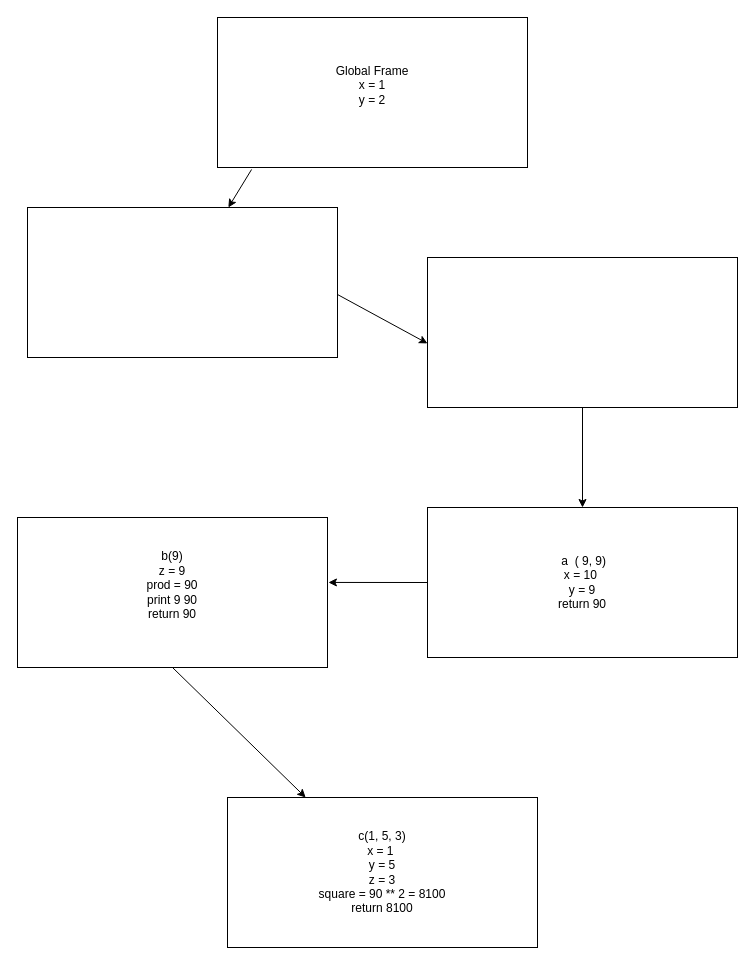
This 755x965 diagram has some shape labels left out. The centre of each missing label's shape, as x and y in pixels:
"b (9) z = 9 calls a(9, 9)" belongs at [582,332].
"c (1, 5, 3) x = 1 y = 5 z = 3 total = 9" belongs at [182,282].
